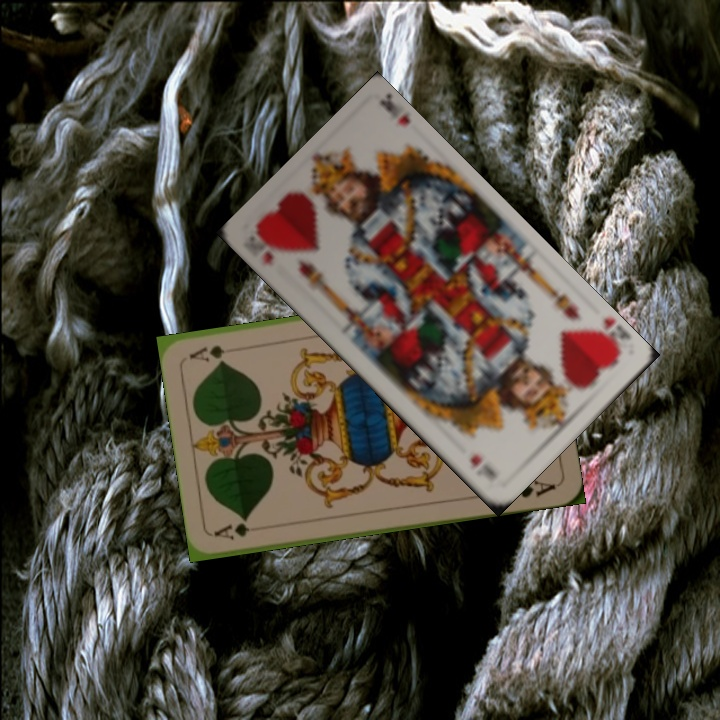GA: (210, 518, 270, 543)
HK: (587, 313, 632, 359), (240, 227, 285, 268)
